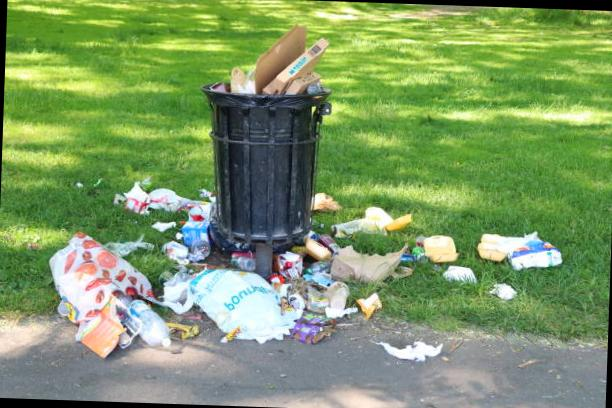trash: (42, 234, 172, 364), (180, 278, 296, 343), (222, 24, 322, 98), (464, 222, 560, 292), (320, 249, 398, 292), (373, 342, 458, 367), (345, 206, 404, 242), (261, 273, 303, 321), (306, 278, 348, 325), (280, 235, 343, 266), (210, 247, 272, 278), (166, 192, 211, 232), (159, 265, 194, 316), (122, 177, 172, 209), (306, 272, 339, 320), (267, 249, 310, 284), (414, 230, 456, 263), (172, 226, 210, 262), (345, 285, 380, 324), (484, 276, 518, 314), (291, 309, 329, 341), (307, 197, 341, 219), (447, 264, 473, 286)
trash_can_overflow: (81, 36, 481, 362)
